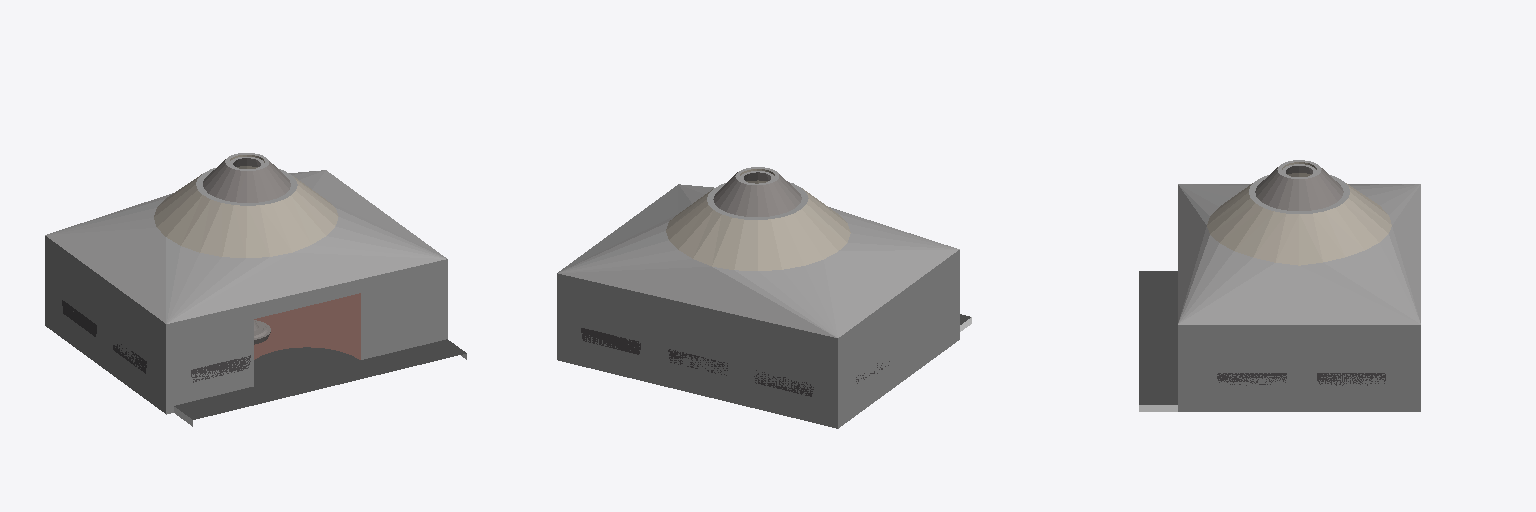
The model's file is Embassy.obj.
3 renders of one model, left to right at view 1: azimuth 30°, elevation 25°; view 2: azimuth 150°, elevation 25°; view 3: azimuth 270°, elevation 25°, orthographic.
Visible parts, largest first — view 1: Mesh12 Model, Mesh3 Group3 Model; view 2: Mesh12 Model, Mesh6 Group6 Model; view 3: Mesh12 Model.
Boxes of the visible parts, box(x1,y1,x2,y2) form: Mesh12 Model: box(45, 153, 466, 426); Mesh3 Group3 Model: box(191, 355, 250, 382); Mesh12 Model: box(557, 167, 971, 428); Mesh6 Group6 Model: box(581, 328, 640, 354); Mesh12 Model: box(1139, 160, 1420, 411).
Bounding box in the file's own units: 35.87 × 21.19 × 31.17.